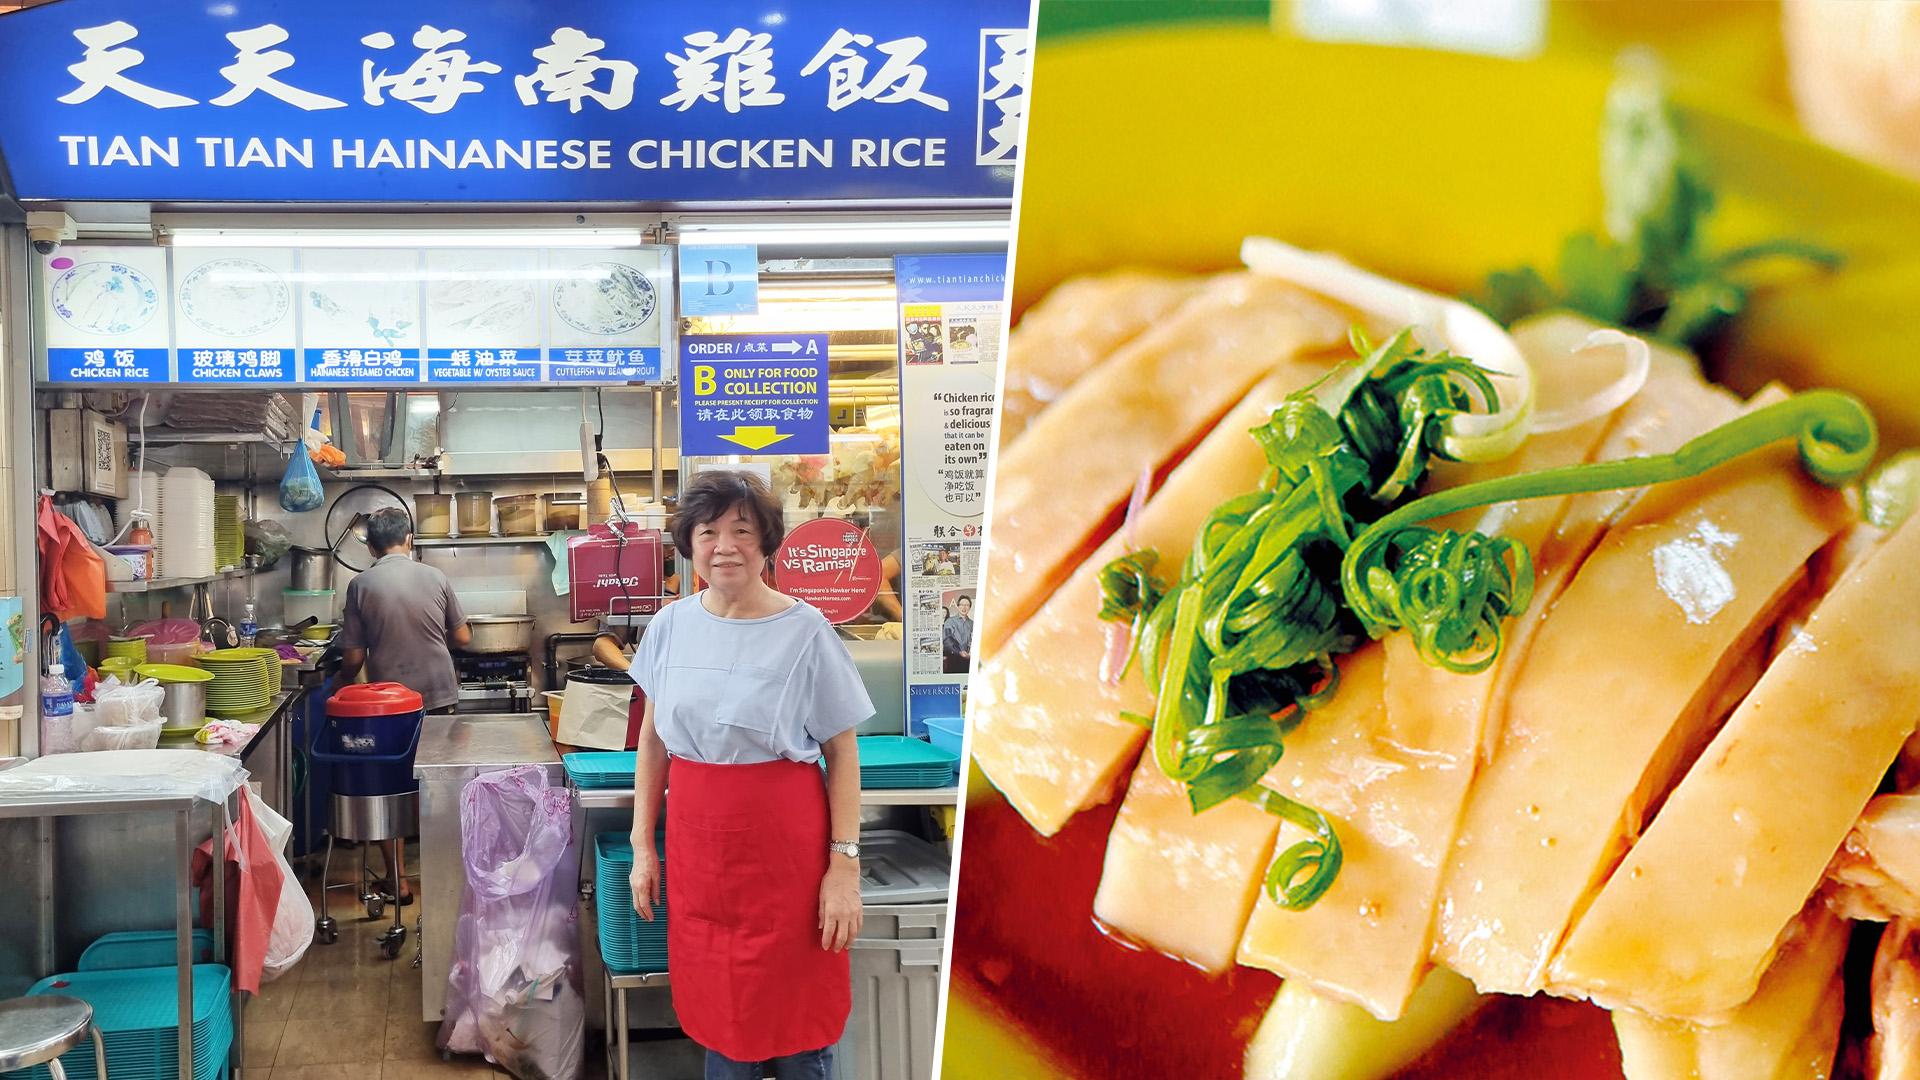Steamed Chicken Rice: (1036, 222, 1919, 1009)
